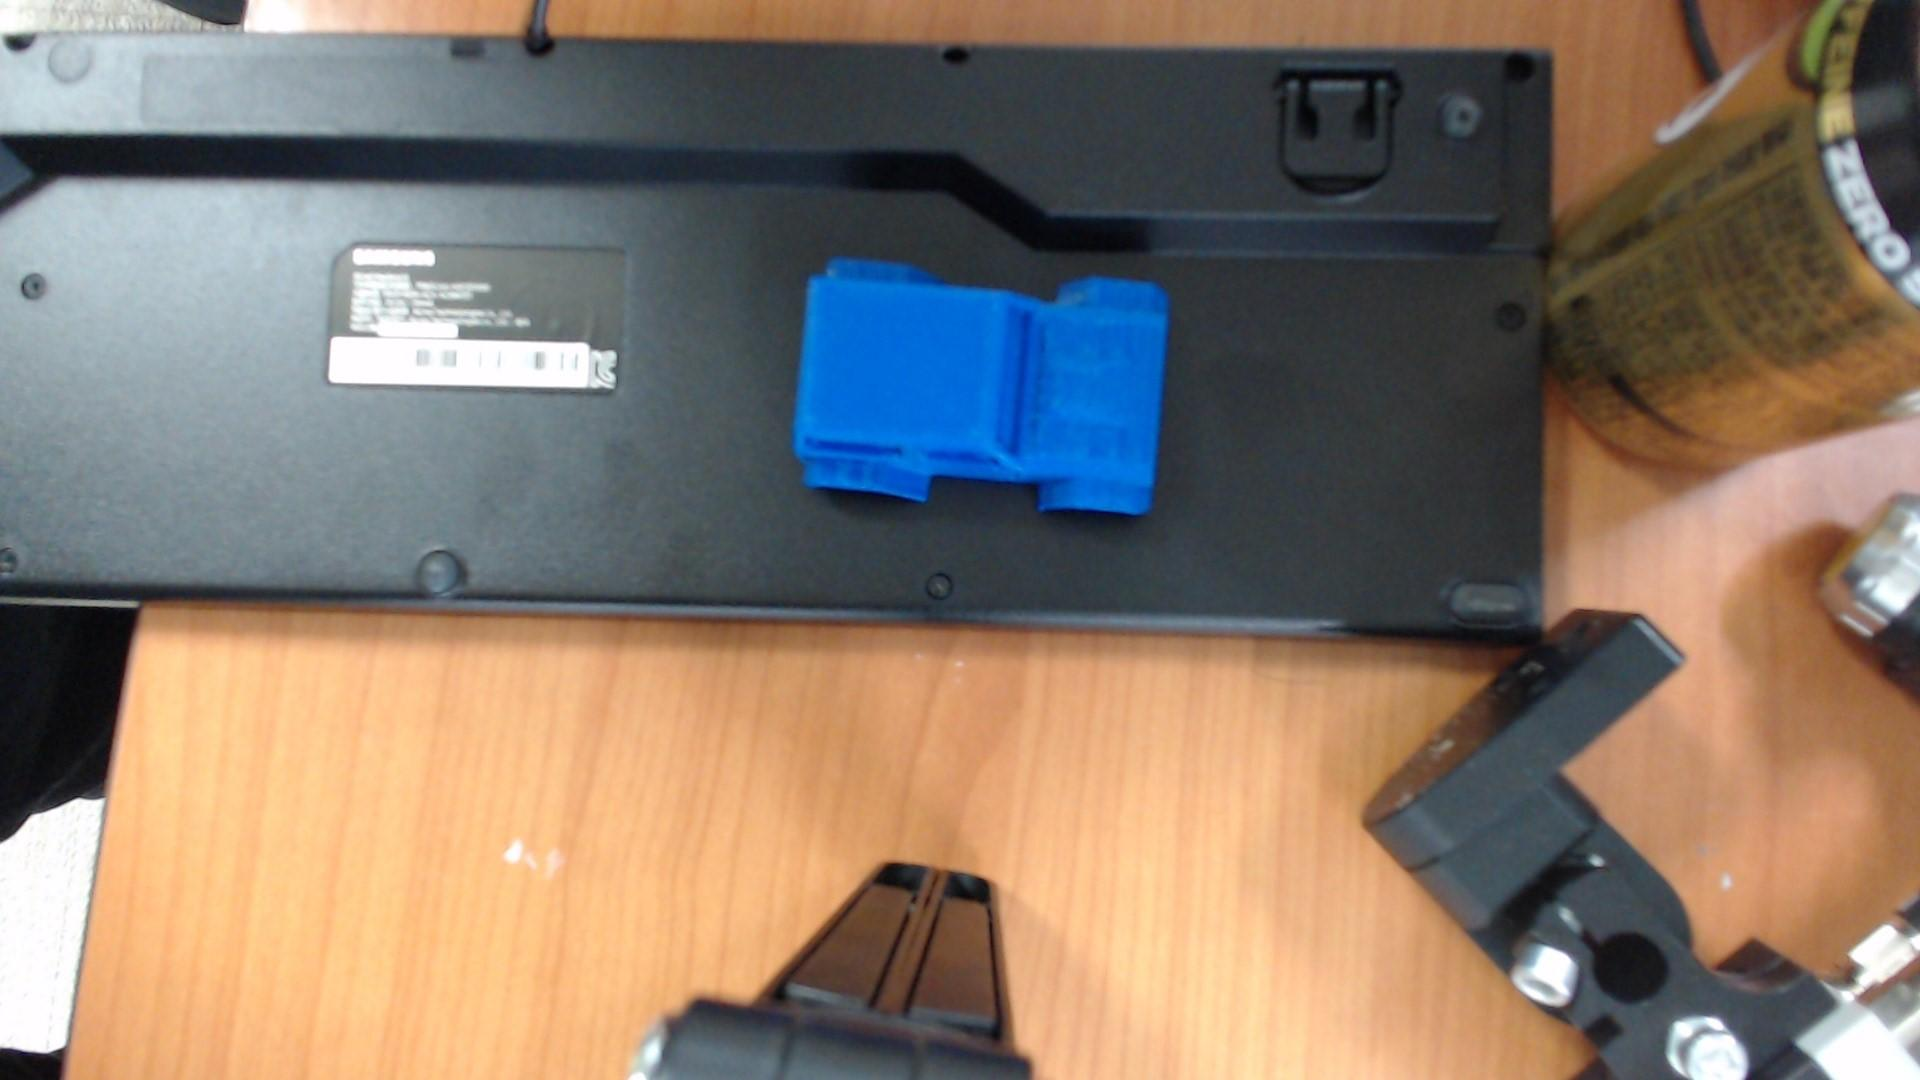Upper_ng: (793, 259, 1169, 514)
